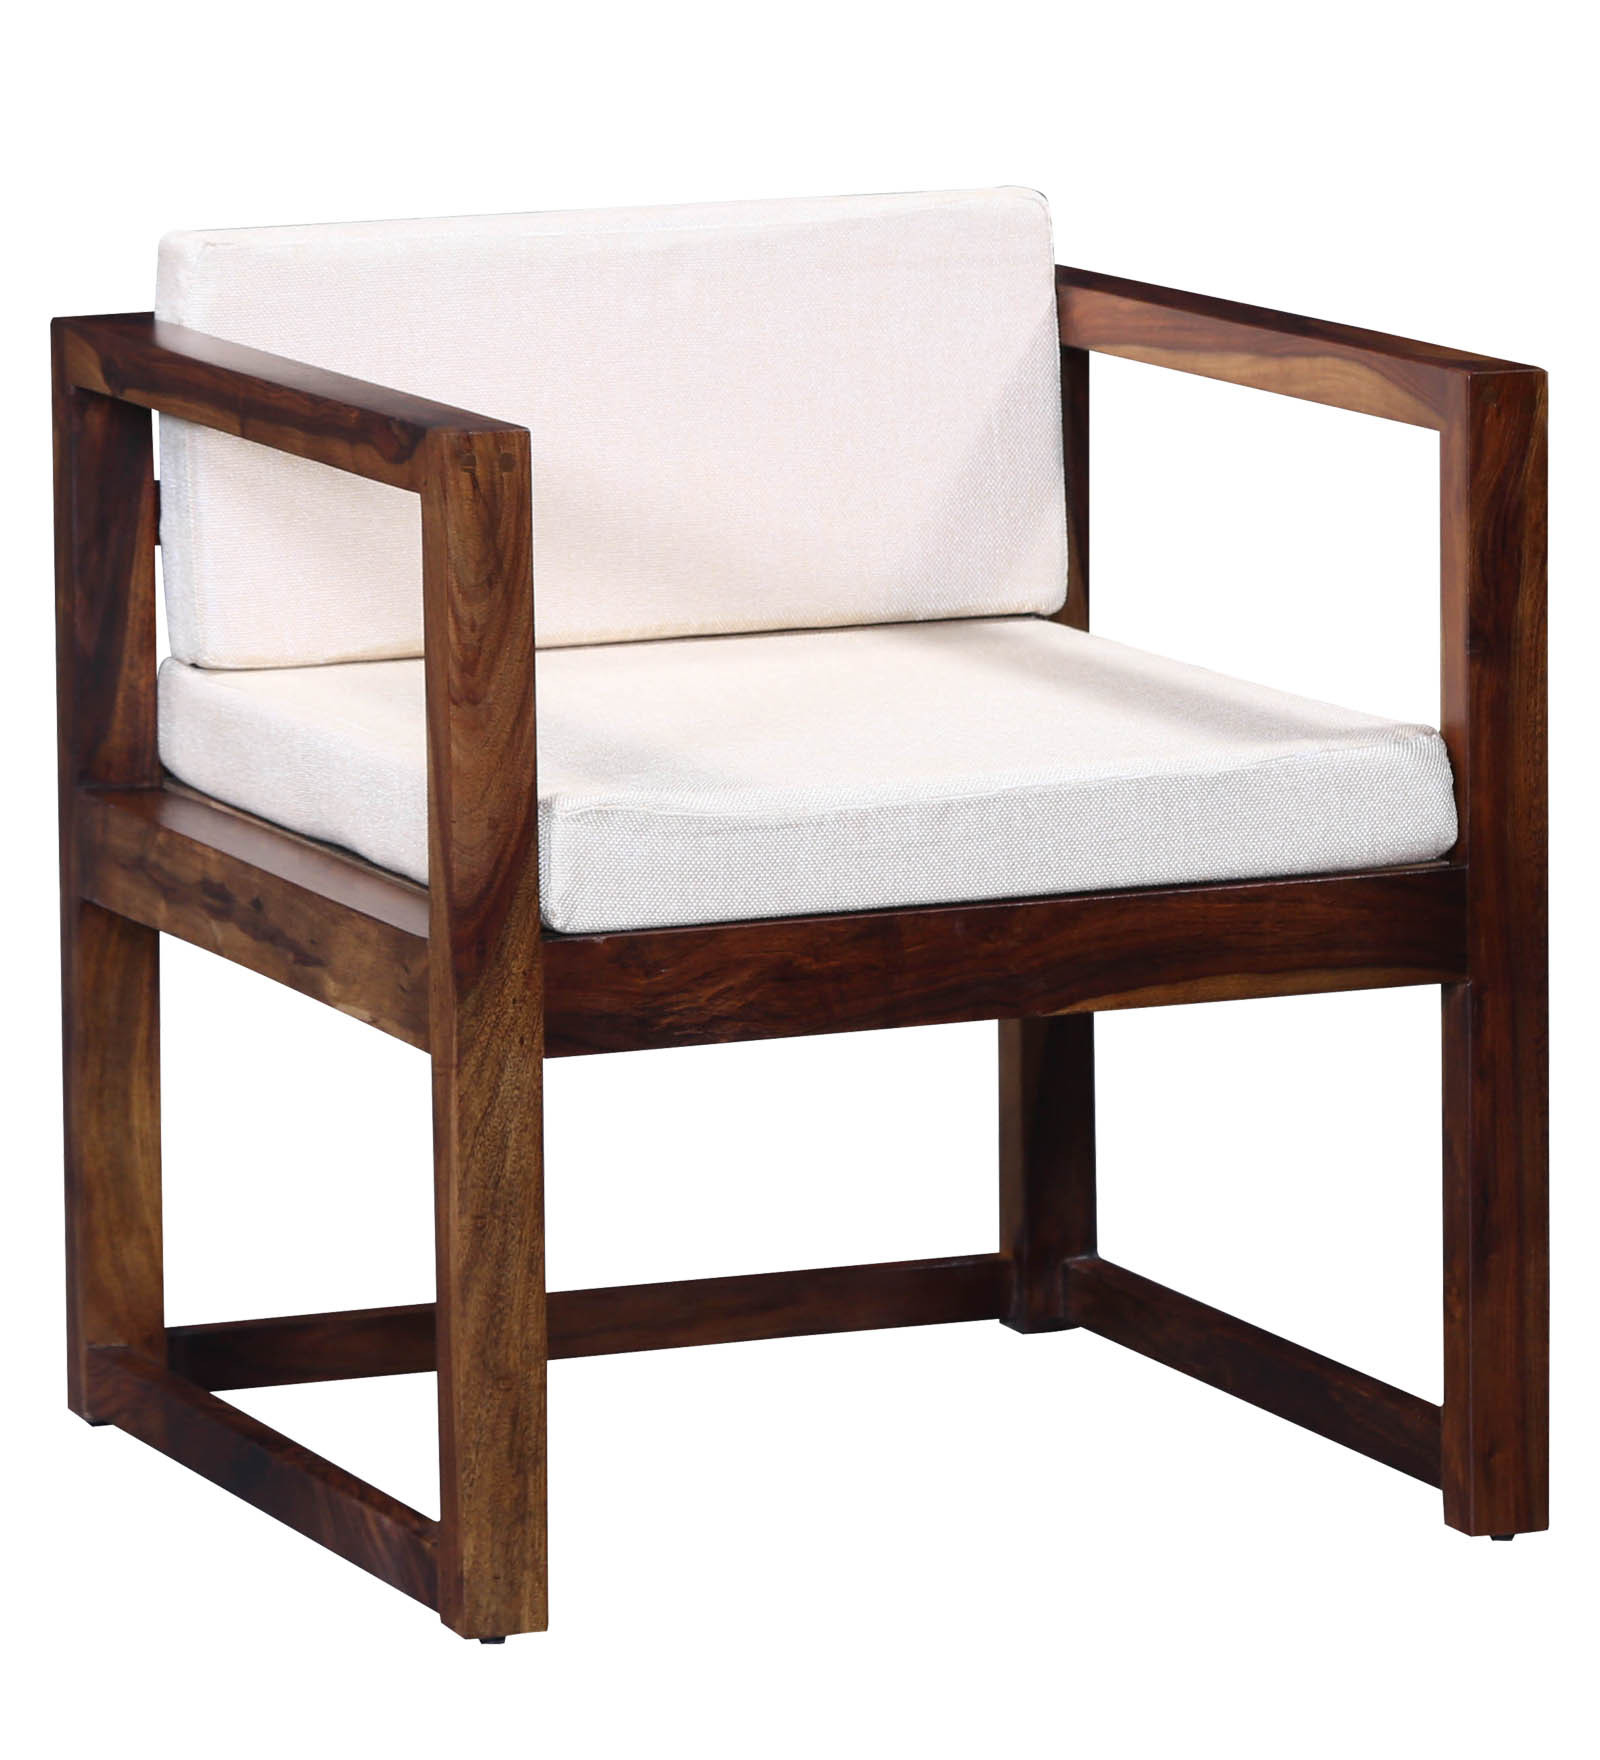Avian Arm Chair in Provincial Teak Finish by Woodsworth: (41, 176, 1582, 1643)
